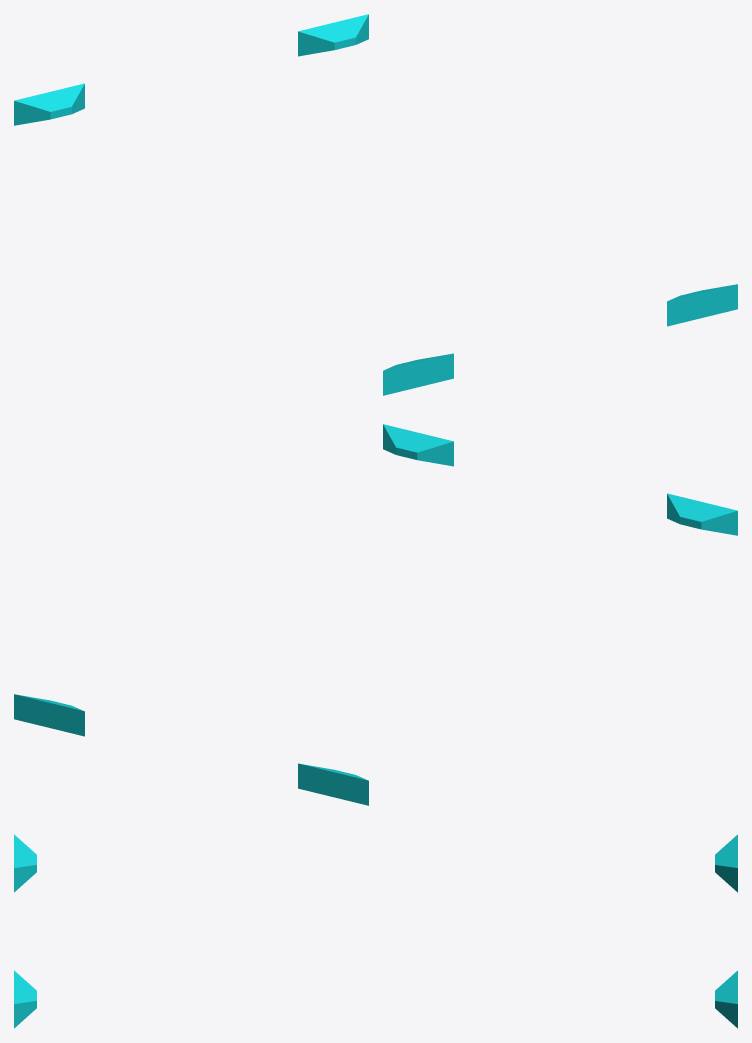
The model's file is Kapatma.fbx.
3 views of the same model, one above another, from view 1: azimuth 30°, elevation 25°; view 2: azimuth 150°, elevation 25°; view 3: azimuth 270°, elevation 25° (orthographic).
Visible parts, largest first — view 1: Cube.812; view 2: Cube.812; view 3: Cube.812.
Boxes of the visible parts, x1,y1,x2,y2 form: Cube.812: [14, 14, 737, 395]; Cube.812: [14, 424, 737, 805]; Cube.812: [14, 834, 737, 1028].
Size of the model in its own units: 7007 by 474 by 12613.
